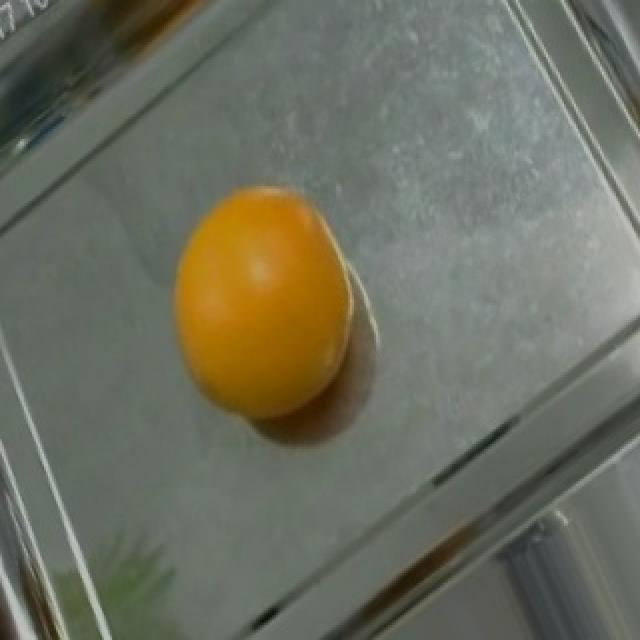Fruit: (148, 171, 376, 444), (352, 536, 564, 640), (34, 0, 254, 64)
